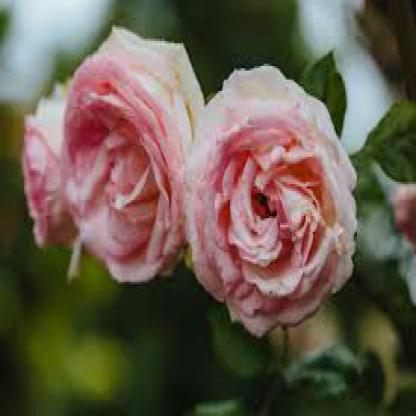Rose-Mawar: (9, 24, 363, 342)
